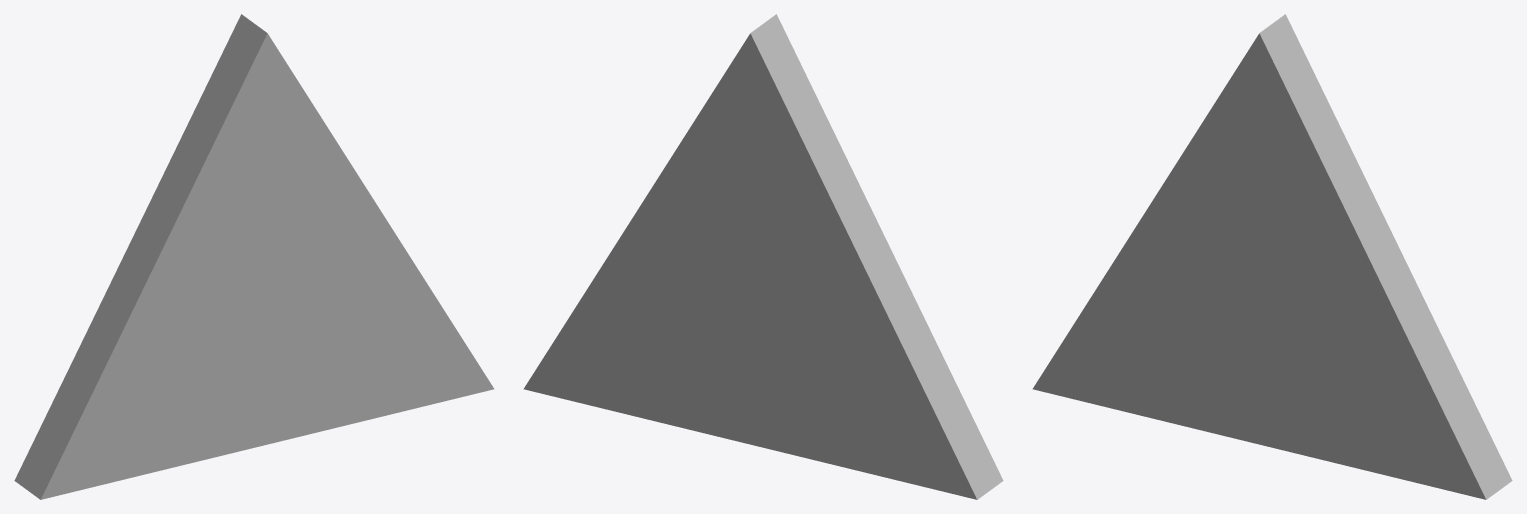
File: tringle.fbx
3 renders of one model, left to right at view 1: azimuth 30°, elevation 25°; view 2: azimuth 150°, elevation 25°; view 3: azimuth 330°, elevation 25°, orthographic.
Visible parts, largest first — view 1: node_id33; view 2: node_id33; view 3: node_id33.
Part boxes in pixels (bbox=[...]): node_id33: bbox=[14, 14, 494, 499]; node_id33: bbox=[523, 14, 1003, 499]; node_id33: bbox=[1032, 14, 1512, 499].
Bounding box in the file's own units: 0.512 × 0.4434 × 0.0512.
1 material, 1 textured.
